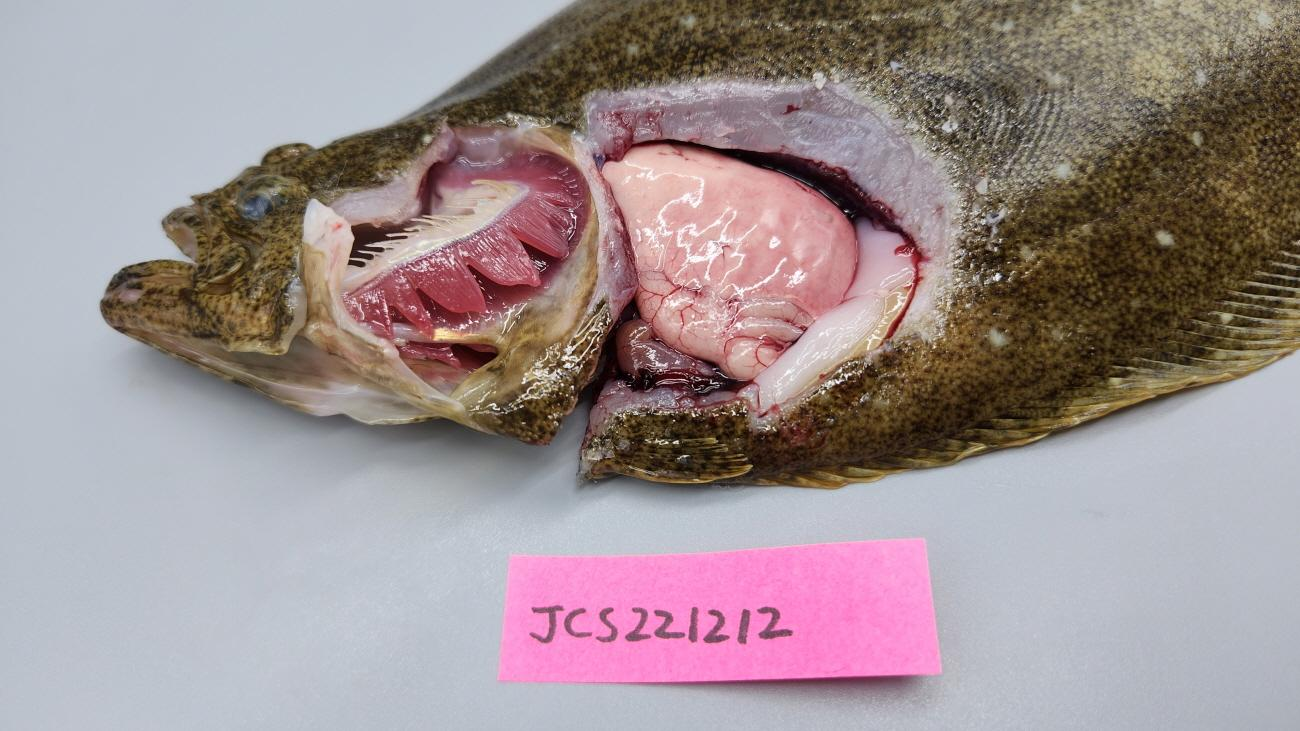POGIN: (343, 150, 587, 340)
POLIN: (601, 141, 859, 320)
